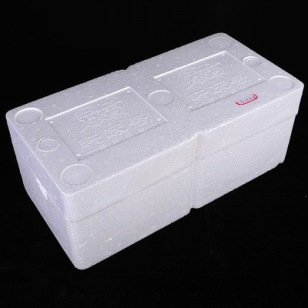5/可回收垃圾/泡沫: (5, 33, 304, 269)
